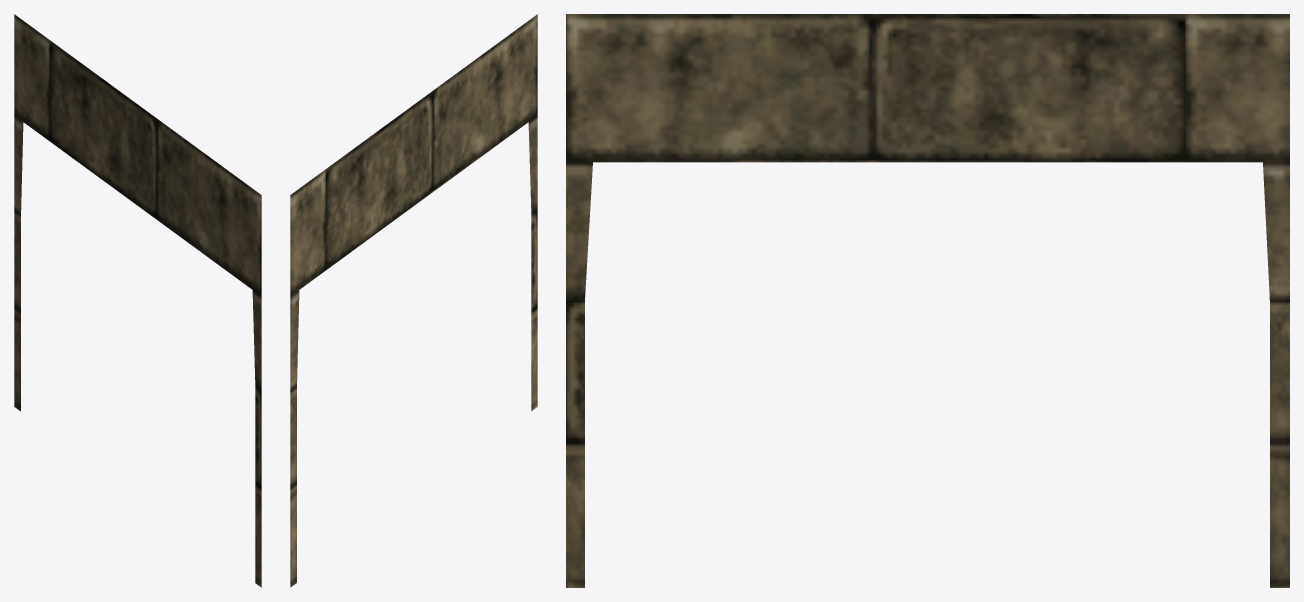
The model's file is OVERHILL_A_01_OBJECT188.fbx.
3 views of the same model, side by side, from view 1: azimuth 30°, elevation 25°; view 2: azimuth 150°, elevation 25°; view 3: azimuth 270°, elevation 25° (orthographic). The views are drawn at different scales.
Parts seen in each view (by area): view 1: OVERHILL_A_01_OBJECT188; view 2: OVERHILL_A_01_OBJECT188; view 3: OVERHILL_A_01_OBJECT188.
Boxes of the visible parts, x1,y1,x2,y2 form: OVERHILL_A_01_OBJECT188: (14,14,261,587); OVERHILL_A_01_OBJECT188: (290,14,537,587); OVERHILL_A_01_OBJECT188: (566,14,1289,587).
Bounding box in the file's own units: 0.0488 × 34378 × 39284.
1 material, 1 textured.
